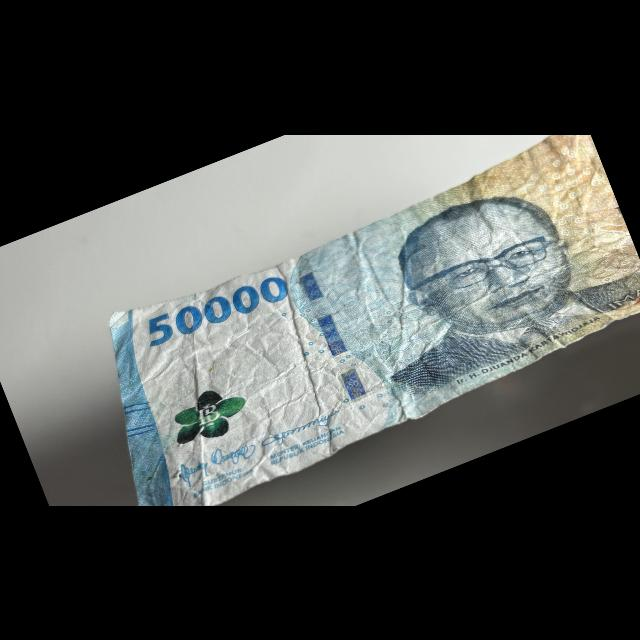Palsu-50k: (62, 128, 640, 506)
Tinta-Palsu-50k: (161, 380, 256, 448)
